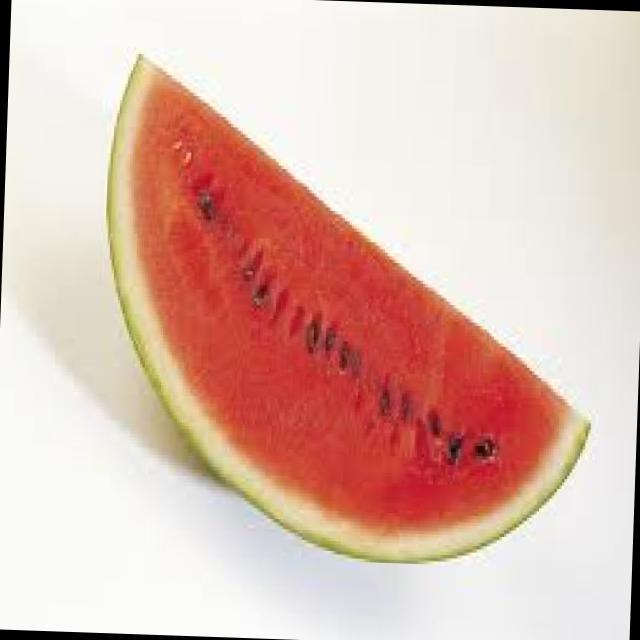Watermelon: (60, 45, 630, 574)
